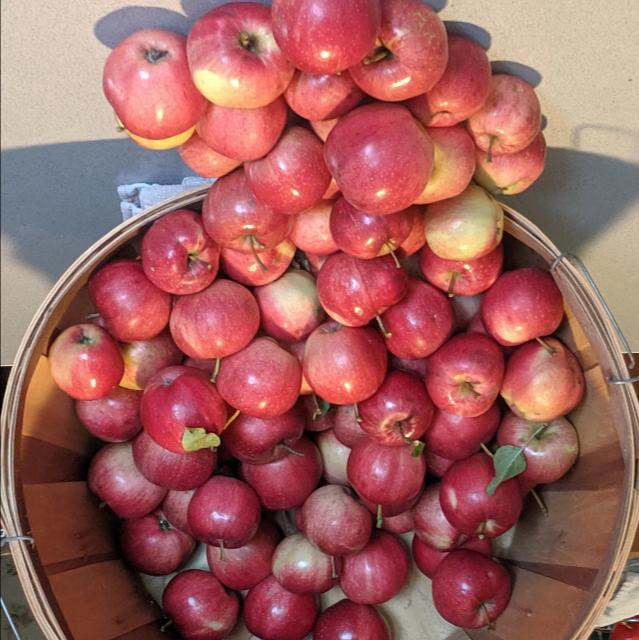Apples: (100, 25, 206, 138), (324, 102, 432, 212), (184, 2, 290, 108), (354, 0, 446, 100), (272, 1, 378, 74), (202, 171, 294, 255), (303, 324, 387, 416), (412, 36, 490, 126), (142, 368, 224, 452), (170, 282, 256, 362), (246, 127, 328, 210), (88, 261, 170, 343), (502, 340, 584, 422), (317, 252, 407, 326), (140, 207, 217, 293), (430, 550, 512, 630), (218, 340, 300, 420), (439, 458, 519, 538), (481, 268, 563, 346), (427, 337, 503, 418), (466, 73, 540, 155), (84, 444, 163, 520), (349, 438, 423, 512), (385, 280, 453, 360), (49, 326, 124, 398), (198, 100, 284, 162), (161, 570, 237, 640), (498, 416, 578, 482), (244, 448, 322, 512), (189, 477, 257, 549), (303, 488, 370, 558), (243, 578, 317, 640), (342, 538, 408, 606), (122, 514, 194, 576), (418, 244, 500, 296), (476, 133, 544, 194), (226, 412, 304, 464)
